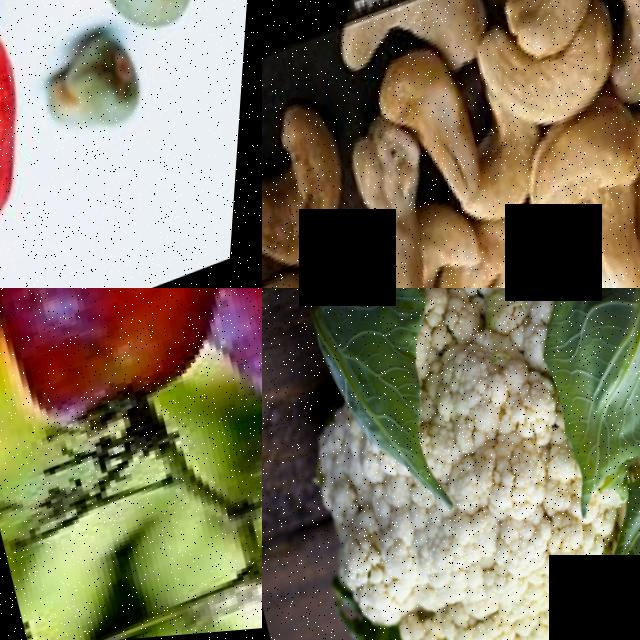cashew: (479, 64, 640, 238), (349, 51, 499, 231), (311, 104, 453, 288), (262, 80, 368, 288), (319, 0, 492, 117), (470, 39, 629, 164), (25, 52, 168, 186), (46, 0, 208, 72), (459, 0, 608, 67), (555, 184, 640, 288), (564, 0, 640, 81), (611, 140, 640, 288), (436, 254, 519, 288)
cauliflower: (262, 288, 640, 640)
